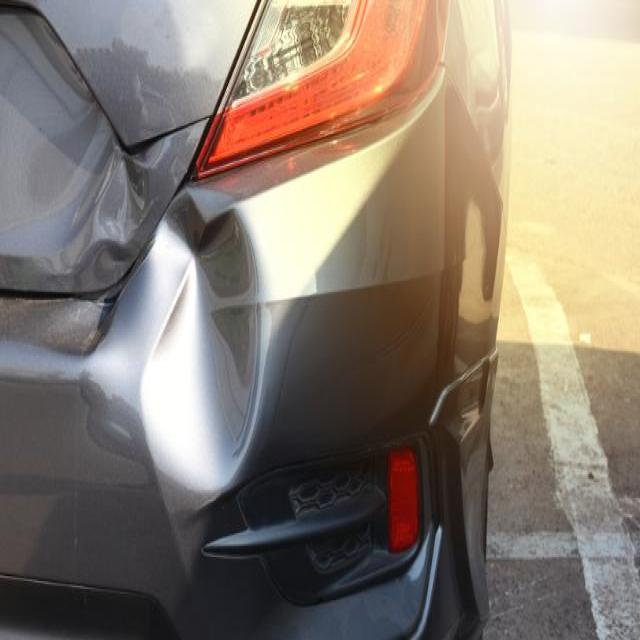Dent: (0, 95, 450, 627), (0, 10, 204, 295), (19, 0, 254, 148), (141, 262, 259, 501), (445, 0, 509, 180)
